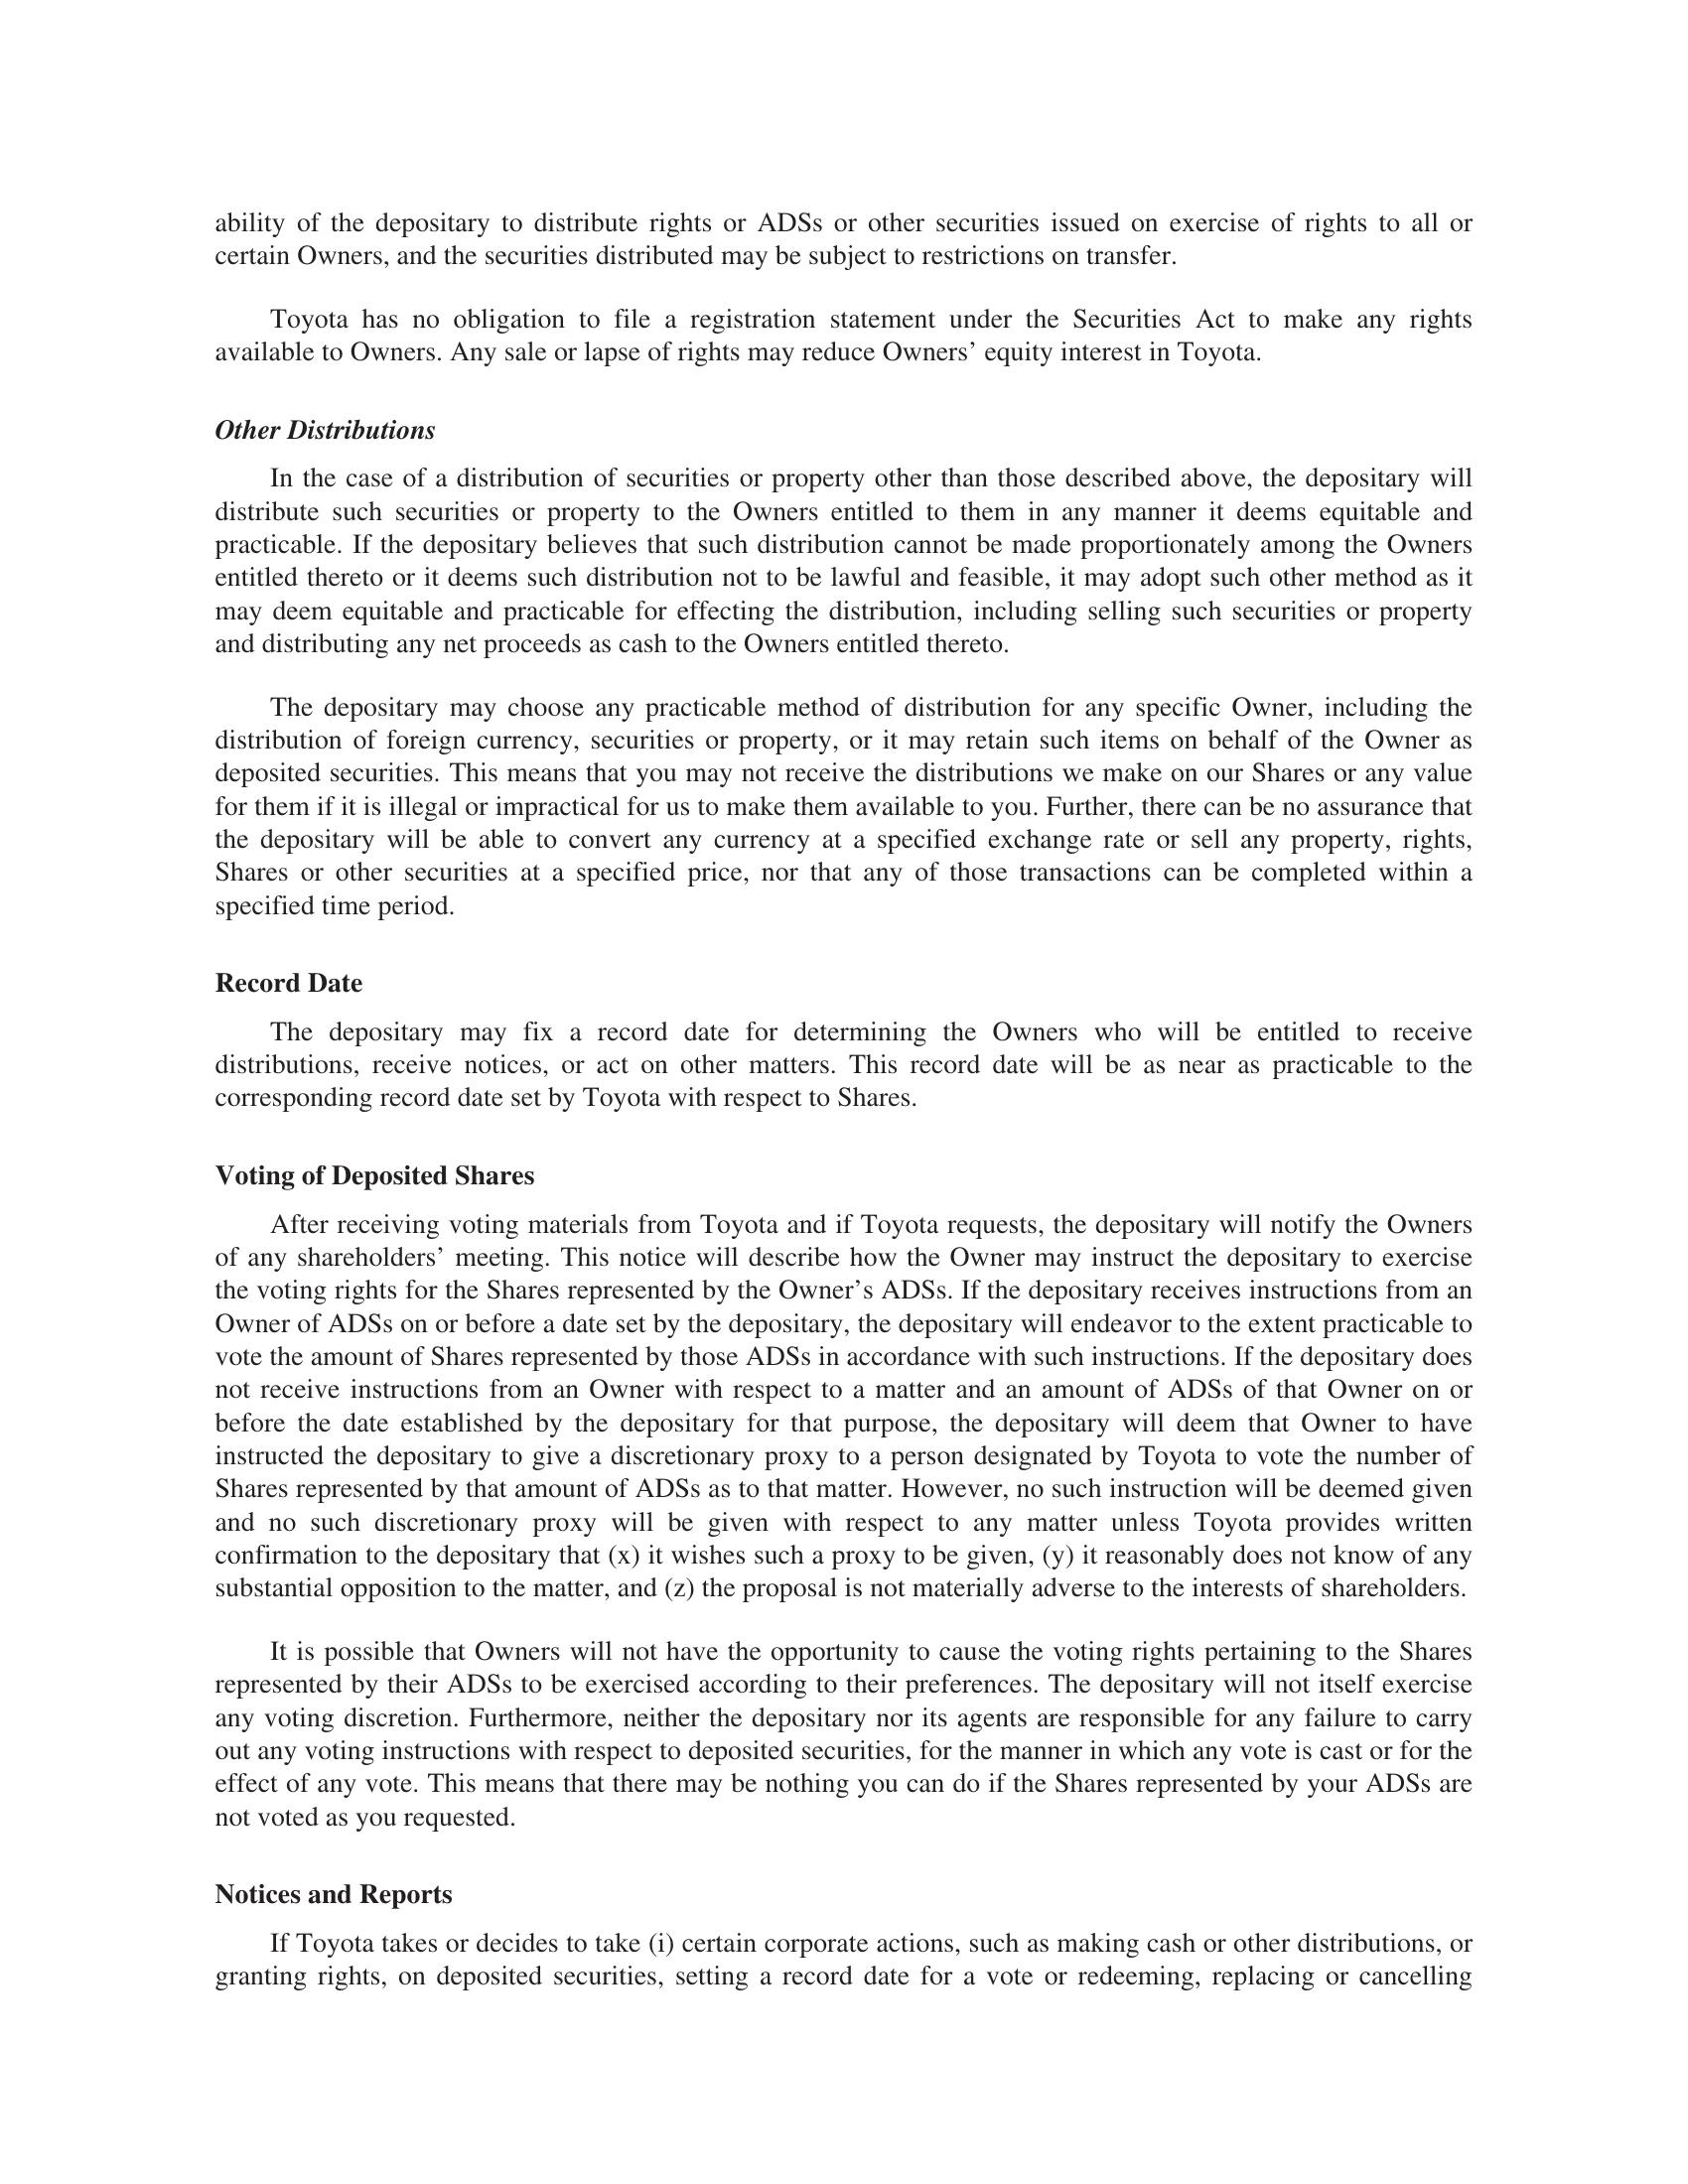Footer: (0, 2001, 1688, 2184)
Header: (0, 0, 1688, 170)
